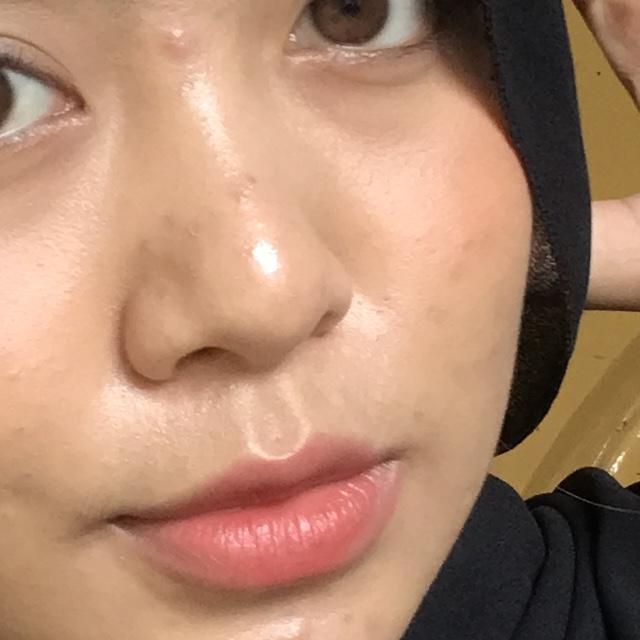mendengar: (410, 0, 640, 435)
